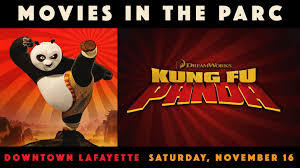KungfuPanda: (16, 25, 115, 151)
